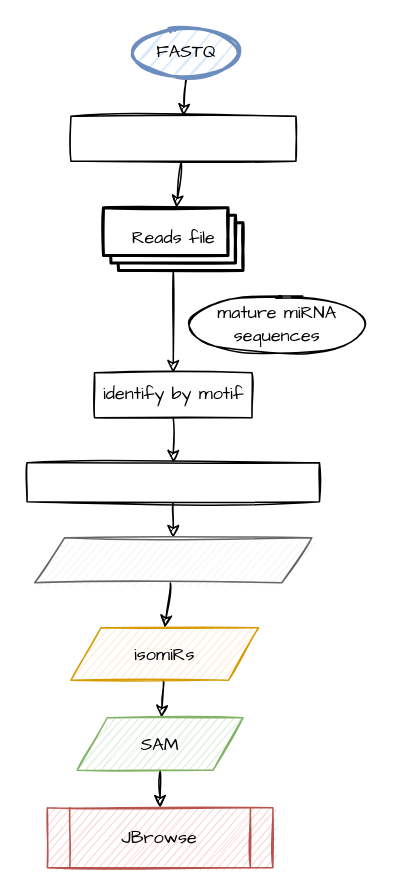
This 396x894 diagram has some shape labels left out. The centre of each missing label's shape, as x and y in pixels:
"caculate edit distance on 5' and 3' end" goes at pixel 173 481.
"filtered by edit distance" goes at pixel 172 559.
"Mark duplicates and split" goes at pixel 182 138.
